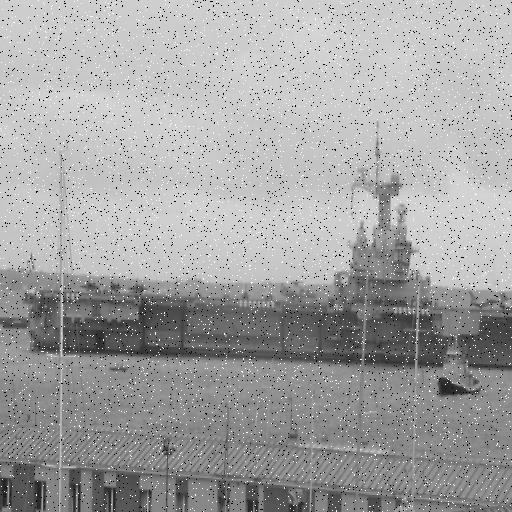Portanaves: (19, 118, 512, 374)
